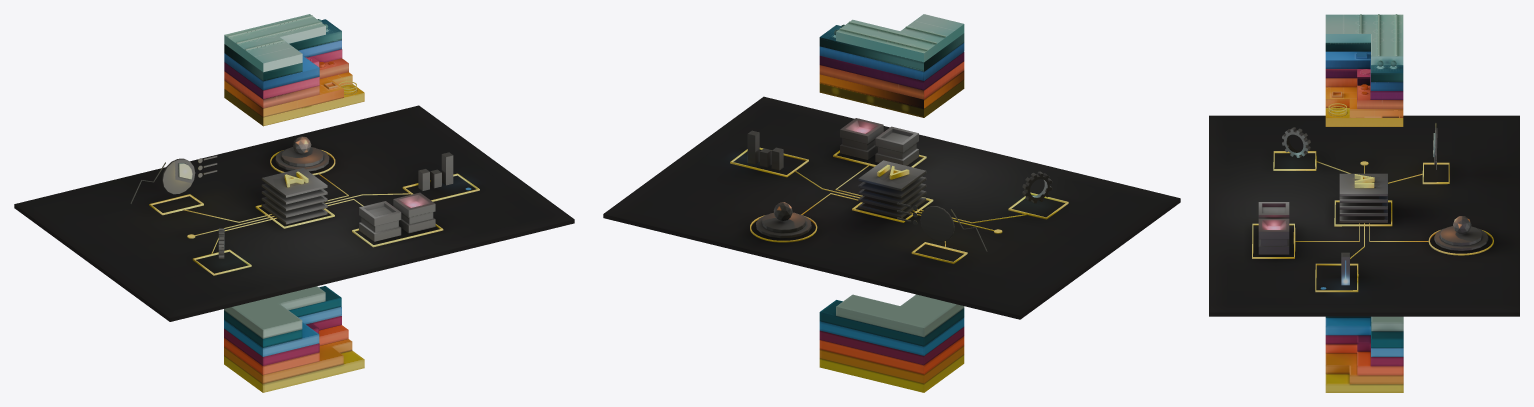
Rendered from value-blueprint4.glb.
3 renders of one model, left to right at view 1: azimuth 30°, elevation 25°; view 2: azimuth 150°, elevation 25°; view 3: azimuth 270°, elevation 25°, orthographic. The views are drawn at different scales.
Parts seen in each view (by area): view 1: ae-plane, mini7, layer7, ae-core, ae-brick, ae-tracks, layer2, layer1, layer5, layer6, layer3, layer4 (+4 smaller); view 2: ae-plane, mini7, layer7, ae-core, ae-brick, ae-tracks, layer6, layer4, layer5, layer3, layer2, layer1 (+5 smaller); view 3: ae-plane, mini7, layer7, ae-core, ae-tracks, ae-brick, layer2, layer5, ae-stand, layer6, layer1, layer3 (+4 smaller).
Part boxes in pixels (<box>): ae-plane: <box>14,105,574,321</box>; mini7: <box>224,286,364,392</box>; layer7: <box>224,14,325,72</box>; ae-core: <box>261,167,327,224</box>; ae-brick: <box>359,192,435,241</box>; ae-tracks: <box>149,150,479,275</box>; layer2: <box>224,72,352,117</box>; layer1: <box>224,84,364,126</box>; layer5: <box>224,40,341,90</box>; layer6: <box>224,19,341,81</box>; layer3: <box>224,58,348,108</box>; layer4: <box>224,49,342,99</box>; ae-plane: <box>603,96,1180,319</box>; mini7: <box>819,294,964,392</box>; layer7: <box>836,14,964,62</box>; ae-core: <box>858,160,926,218</box>; ae-brick: <box>840,118,918,165</box>; ae-tracks: <box>730,147,1068,264</box>; layer6: <box>819,25,964,71</box>; layer4: <box>819,52,964,90</box>; layer5: <box>819,43,964,80</box>; layer3: <box>819,61,964,99</box>; layer2: <box>819,70,964,108</box>; layer1: <box>819,80,964,117</box>; ae-plane: <box>1209,115,1519,316</box>; mini7: <box>1325,316,1403,392</box>; layer7: <box>1325,14,1403,65</box>; ae-core: <box>1339,173,1387,222</box>; ae-tracks: <box>1252,151,1493,292</box>; ae-brick: <box>1258,202,1289,254</box>; layer2: <box>1325,87,1403,117</box>; layer5: <box>1325,51,1403,90</box>; ae-stand: <box>1434,226,1488,250</box>; layer6: <box>1325,42,1403,81</box>; layer1: <box>1325,108,1403,126</box>; layer3: <box>1325,78,1403,108</box>.
Size of the model in its own units: 11.97 by 9.34 by 7.98.
Materials: 28 (28 with a texture image).
